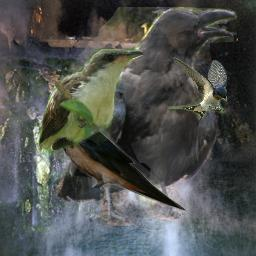Crow: (54, 7, 237, 226)
Cuckoo: (36, 47, 143, 155)
Swallow: (56, 108, 188, 213), (167, 56, 227, 120)
